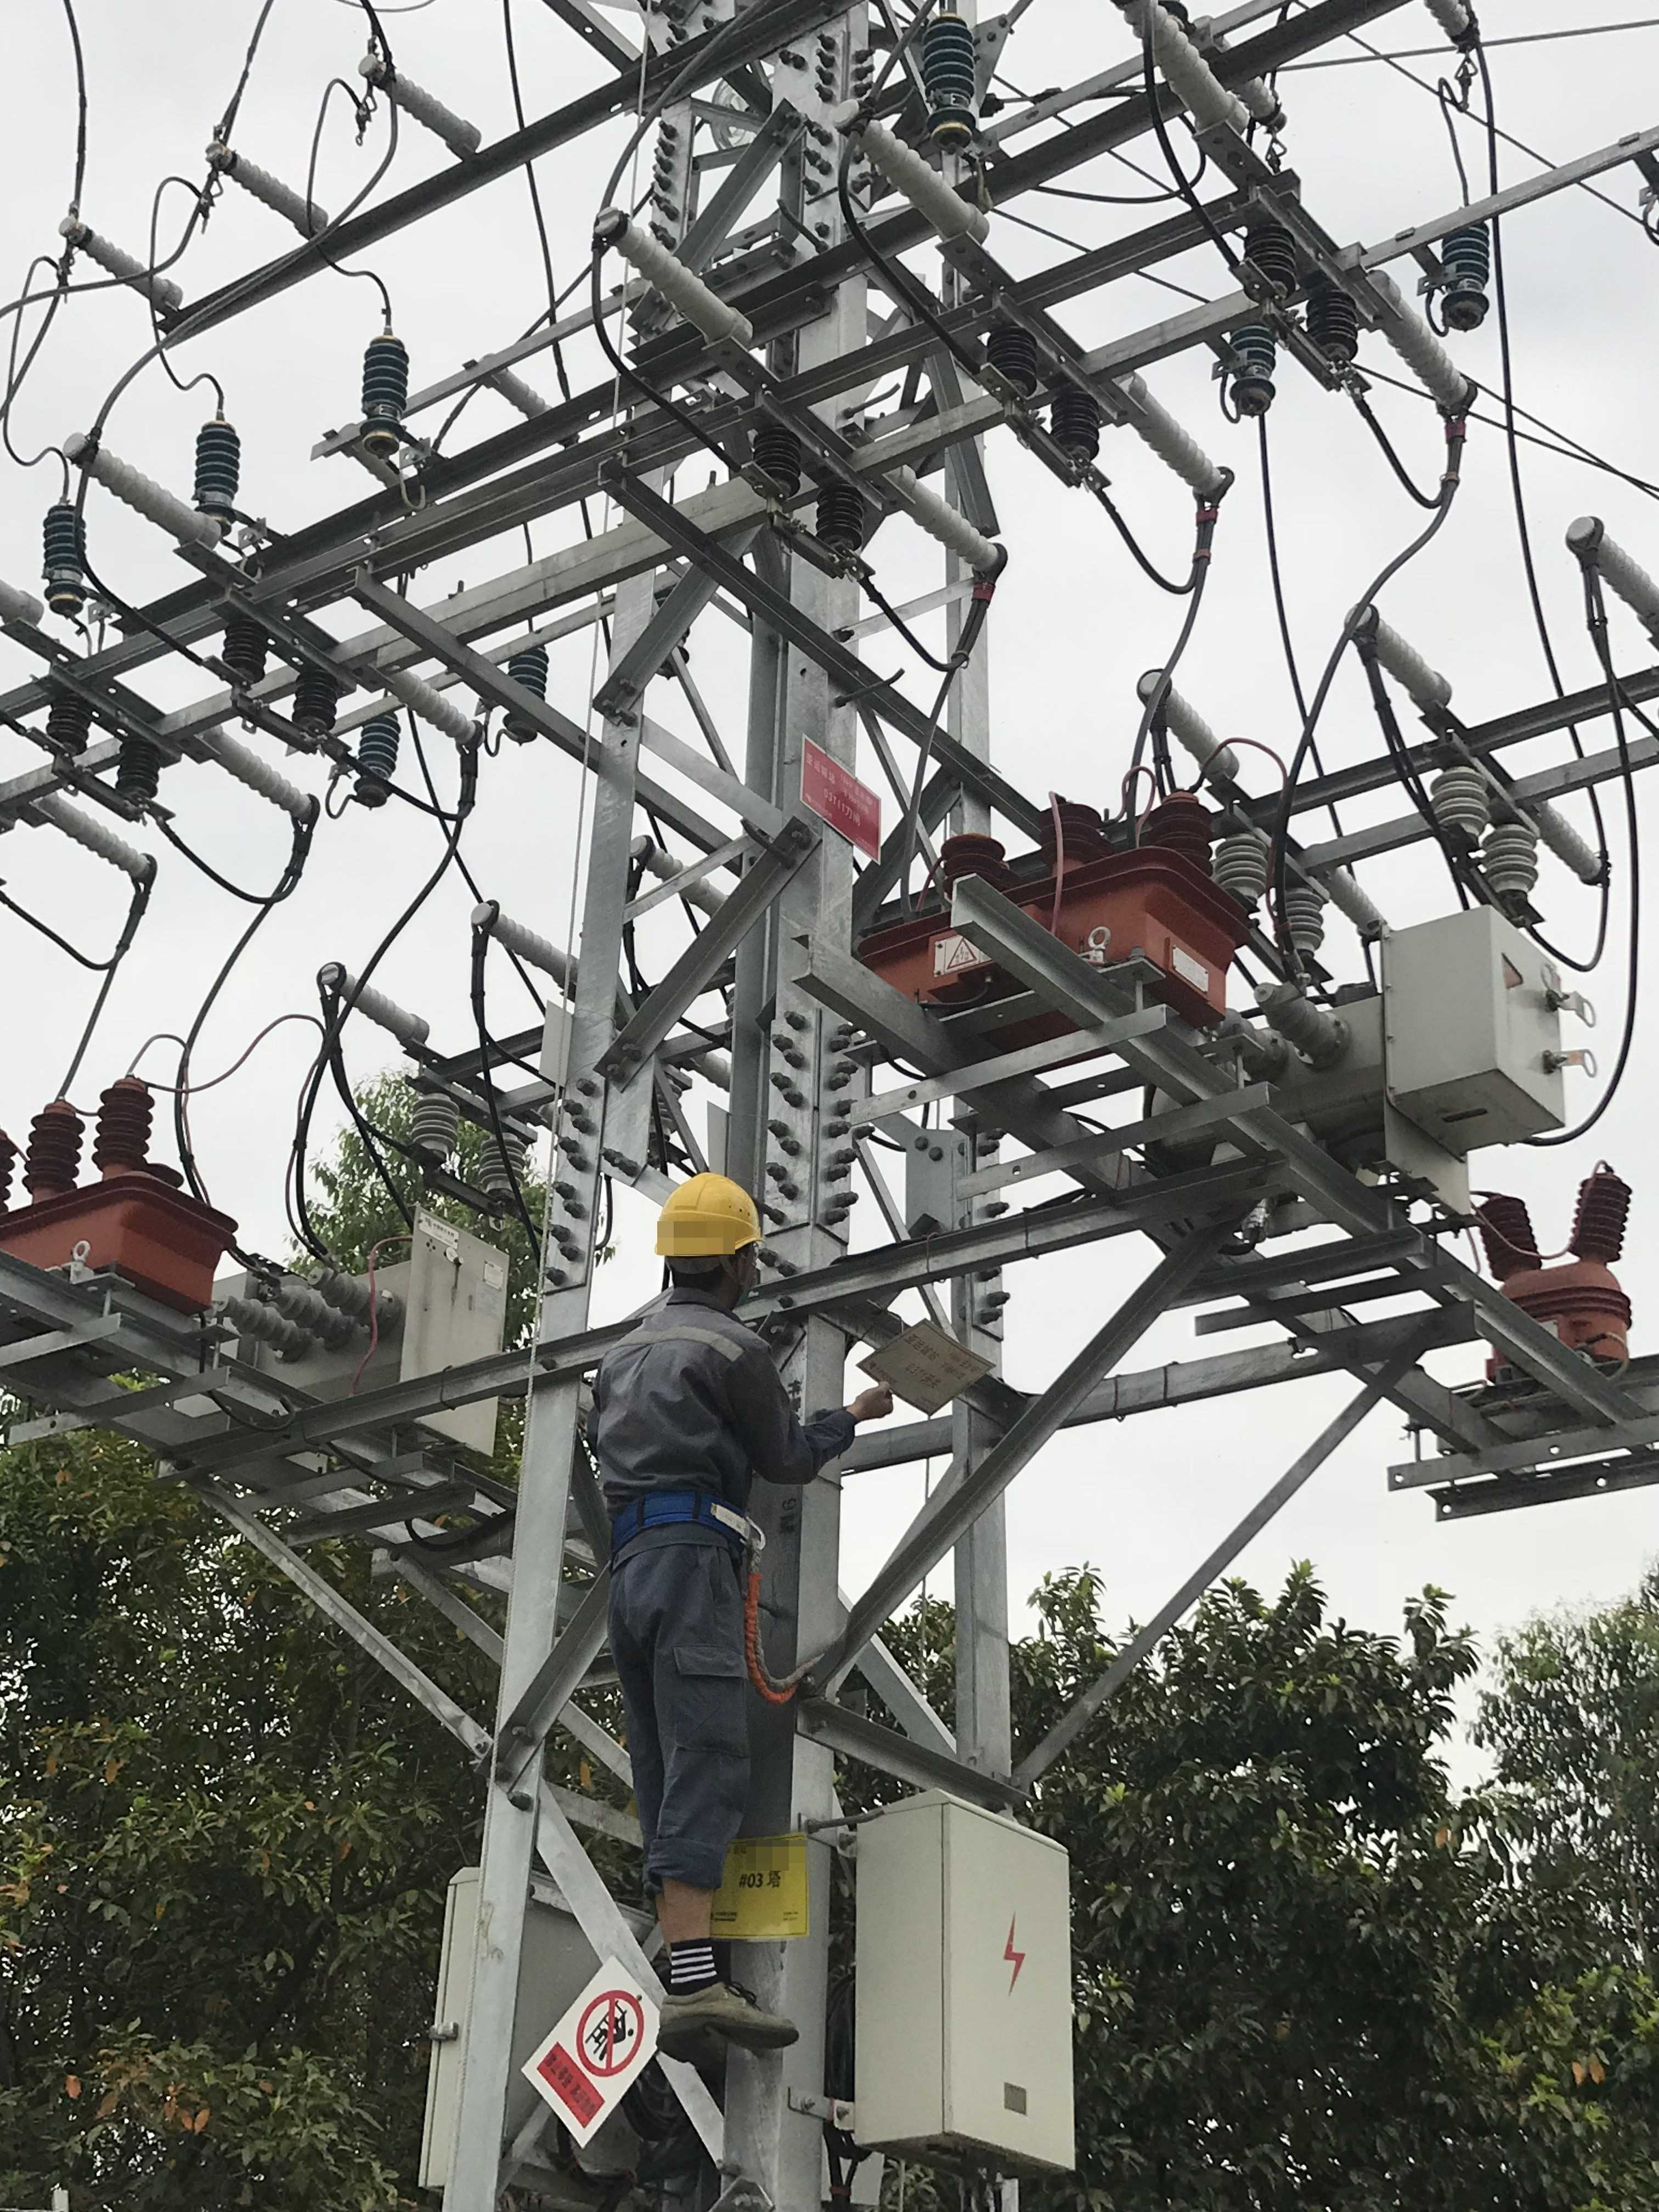downsuit: (603, 1547, 772, 1888)
upsuit: (586, 1301, 828, 1515)
wrongbottom: (650, 1834, 732, 1970)
